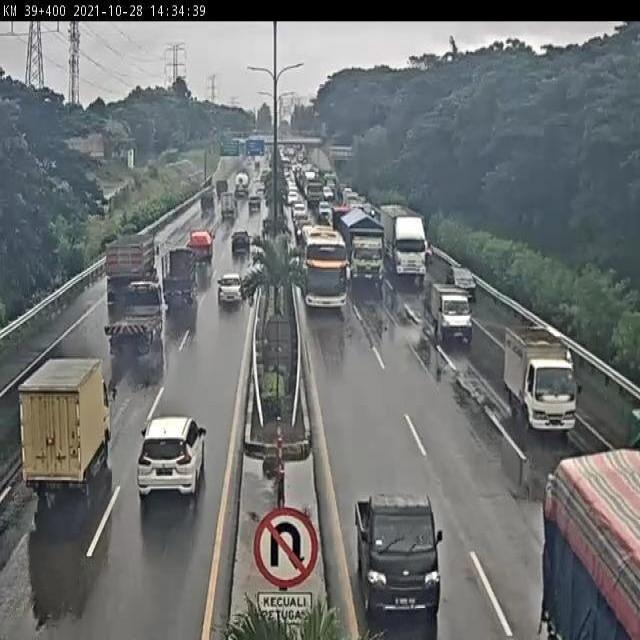big bus: (298, 224, 352, 312)
big truck: (106, 279, 167, 345), (338, 205, 386, 288), (380, 204, 429, 284), (104, 232, 160, 299)
car: (352, 488, 443, 615), (137, 415, 210, 501), (429, 279, 473, 345), (445, 263, 479, 300), (216, 270, 247, 306), (229, 227, 252, 254)
small truck: (19, 354, 115, 498), (502, 318, 578, 434), (161, 247, 202, 304), (187, 228, 217, 264)
